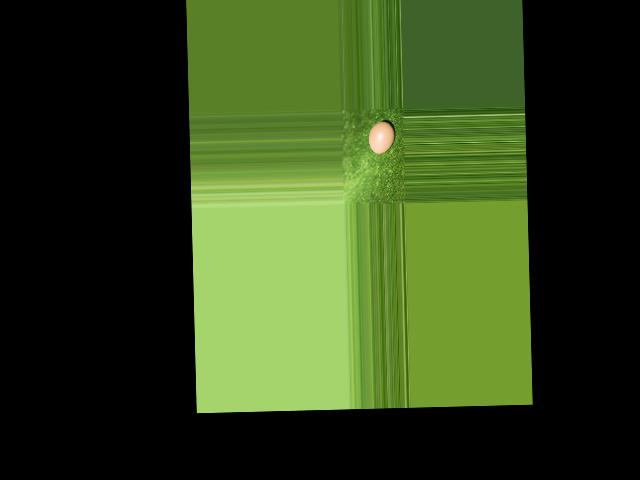egg: (368, 121, 395, 154)
